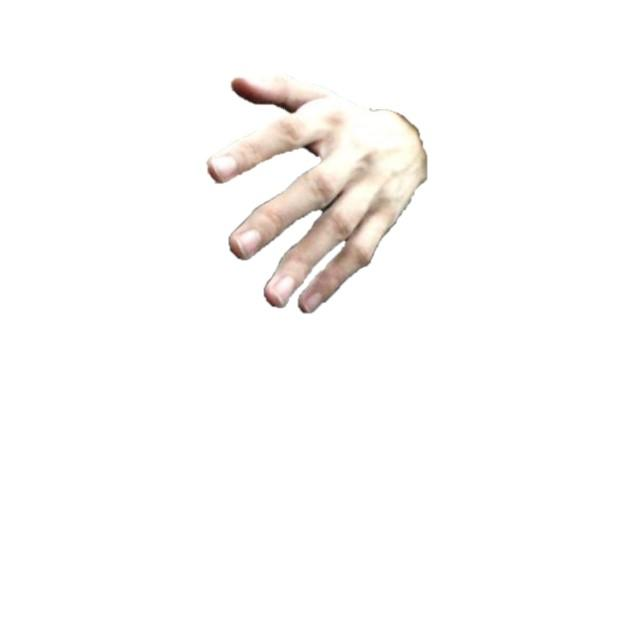pa-: (203, 75, 429, 315)
